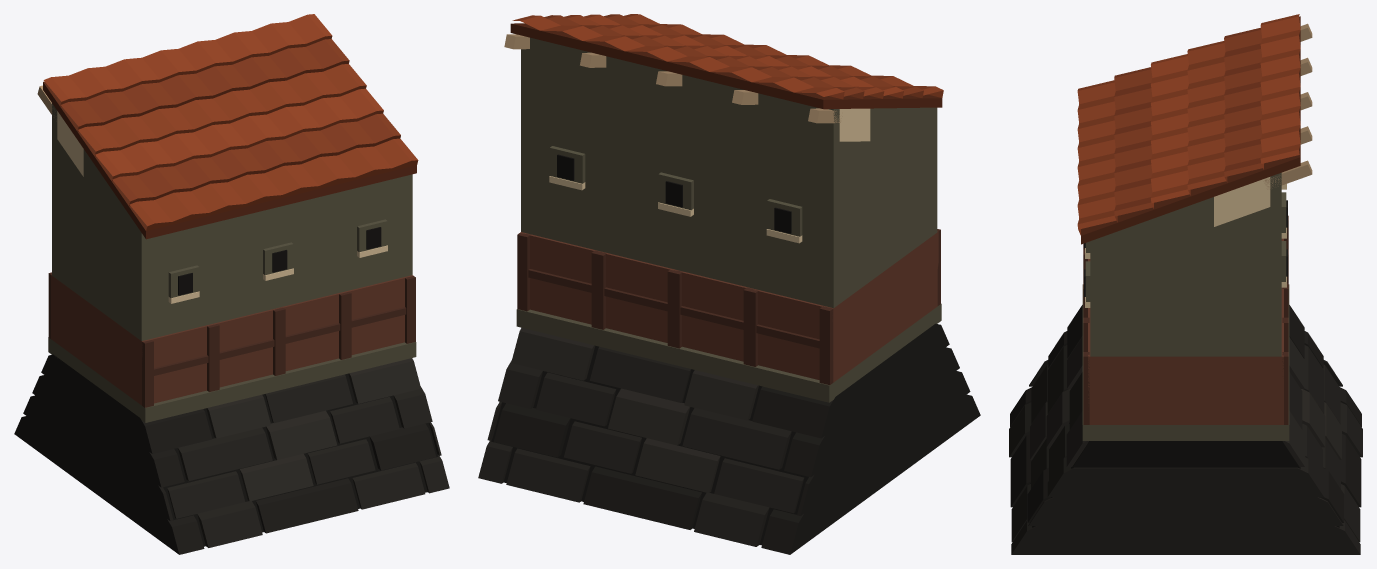
File: VerWall05.glb
3 renders of one model, left to right at view 1: azimuth 30°, elevation 25°; view 2: azimuth 150°, elevation 25°; view 3: azimuth 270°, elevation 25°, orthographic. The views are drawn at different scales.
Parts seen in each view (by area): view 1: VerWall05_mortar; view 2: VerWall05_mortar; view 3: VerWall05_mortar.
Part boxes in pixels (bbox=[...]): VerWall05_mortar: bbox=[14, 14, 449, 554]; VerWall05_mortar: bbox=[478, 14, 980, 554]; VerWall05_mortar: bbox=[1009, 14, 1362, 554].
Size of the model in its own units: 4.19 by 5.57 by 4.44.
